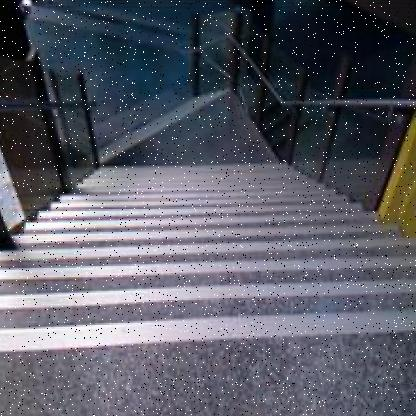stair_down: (0, 230, 413, 355)
